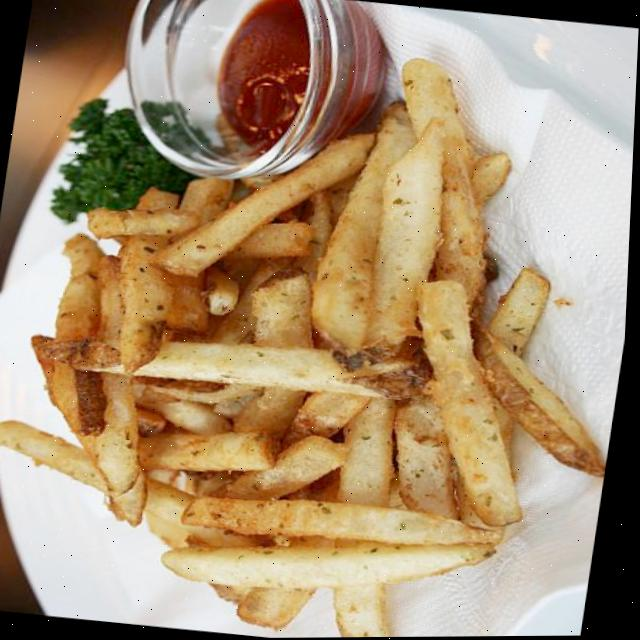炸货点心: (0, 13, 639, 640)
